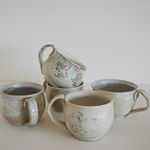cups: (47, 89, 116, 143), (35, 41, 91, 88), (90, 77, 150, 120), (1, 80, 47, 129)
